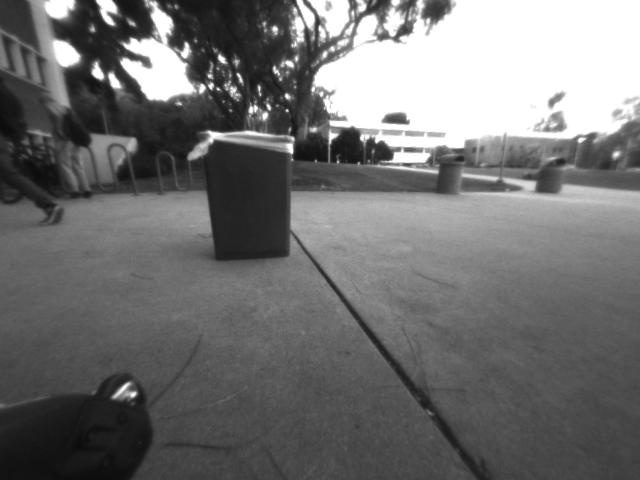trashcan_open: (190, 121, 308, 267)
